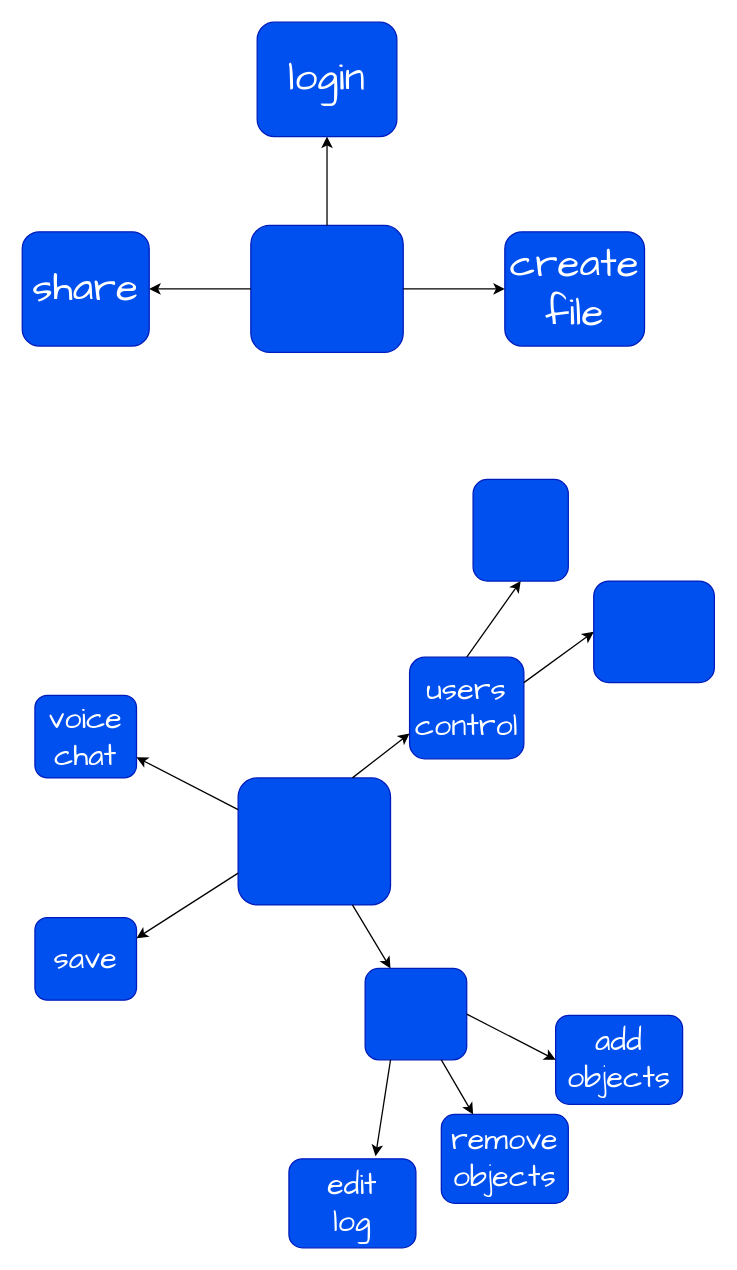
Image size: 737x1270. Some labels were removed from this diagram. The shapes that lost their labels are listed below. From the top down, each one's box as (x1, y1, x2, y2) in pixels, then its label:
(250, 224, 403, 352): setup
(472, 478, 568, 581): share board
(592, 580, 714, 683): remove users
(237, 777, 391, 905): create board
(364, 967, 467, 1060): edit
